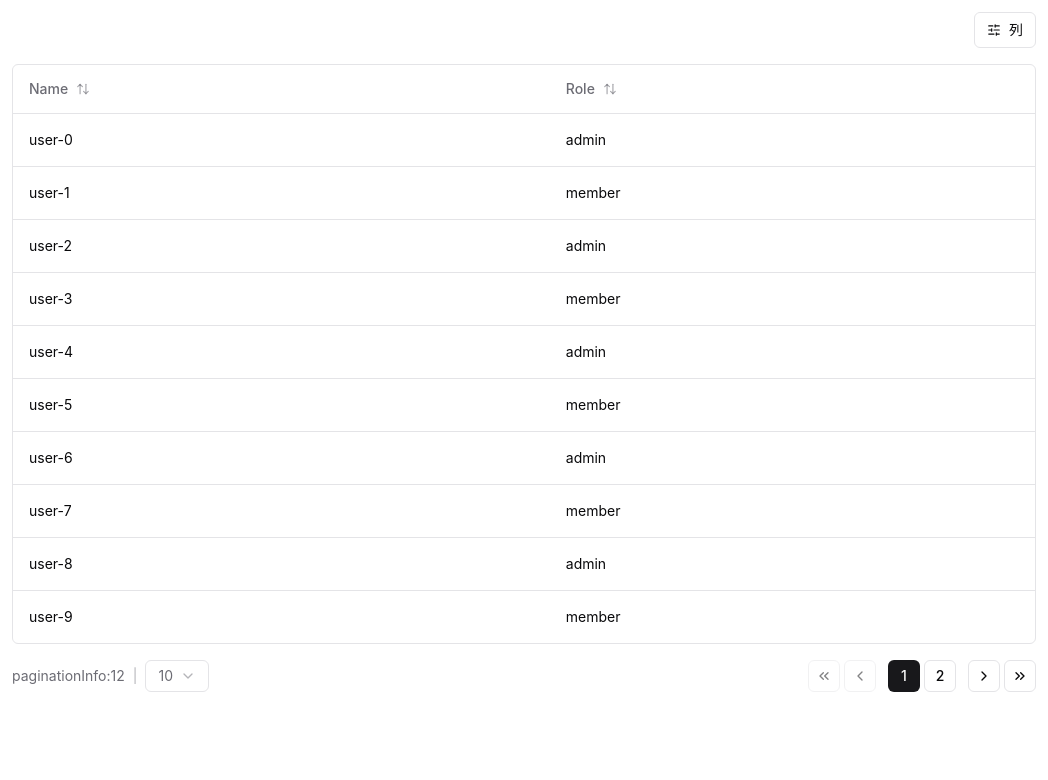
Test case: DataTable › 超过 pageSize 时渲染分页并可翻页
Expected: the text "user-11" is not shown
Expected: the text "paginationInfo:12" is shown, [12, 666, 125, 686]
#  点下一页后出现
Click the button named "nextPage": point(984, 676) [968, 660, 1000, 692]
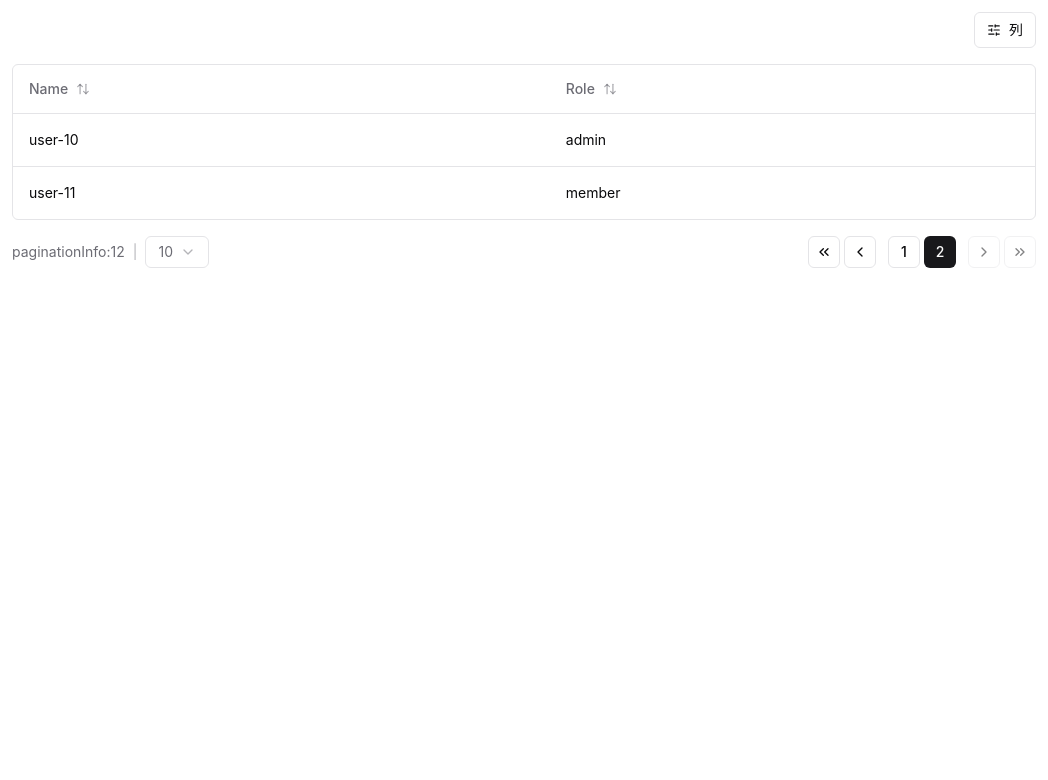
Expected: the text "user-11" is shown, [13, 166, 550, 218]
Expected: the text "user-0" is gone
